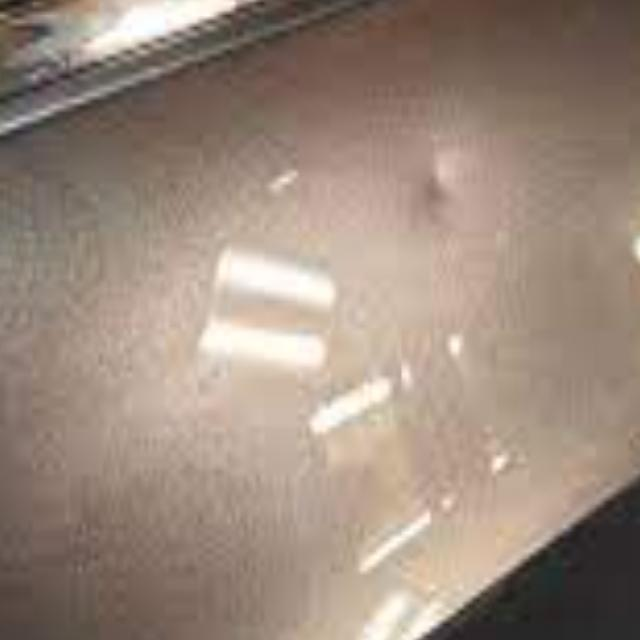dents: (414, 152, 482, 248)
